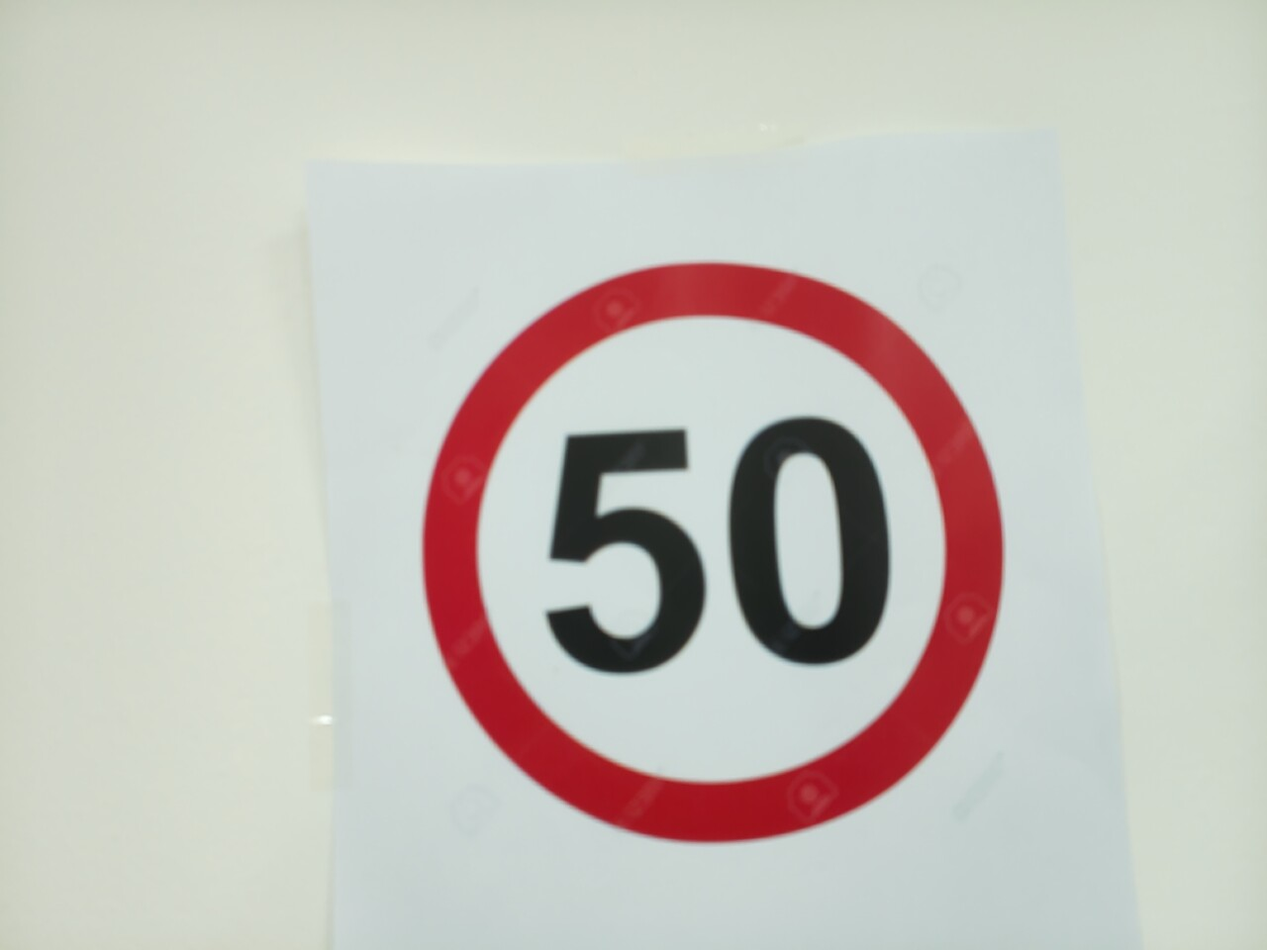speed_50: (408, 248, 1018, 858)
